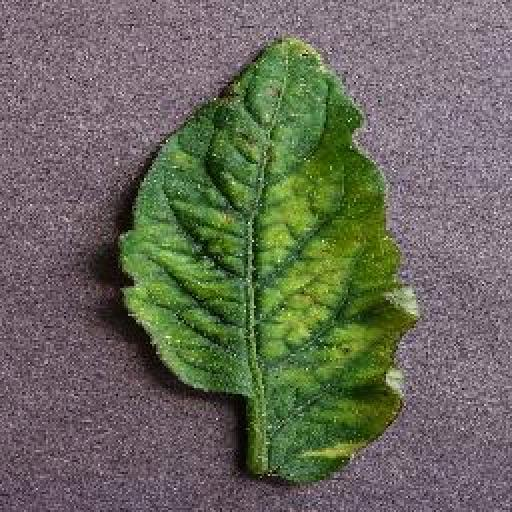Mosaic Virus: (114, 36, 420, 486)
